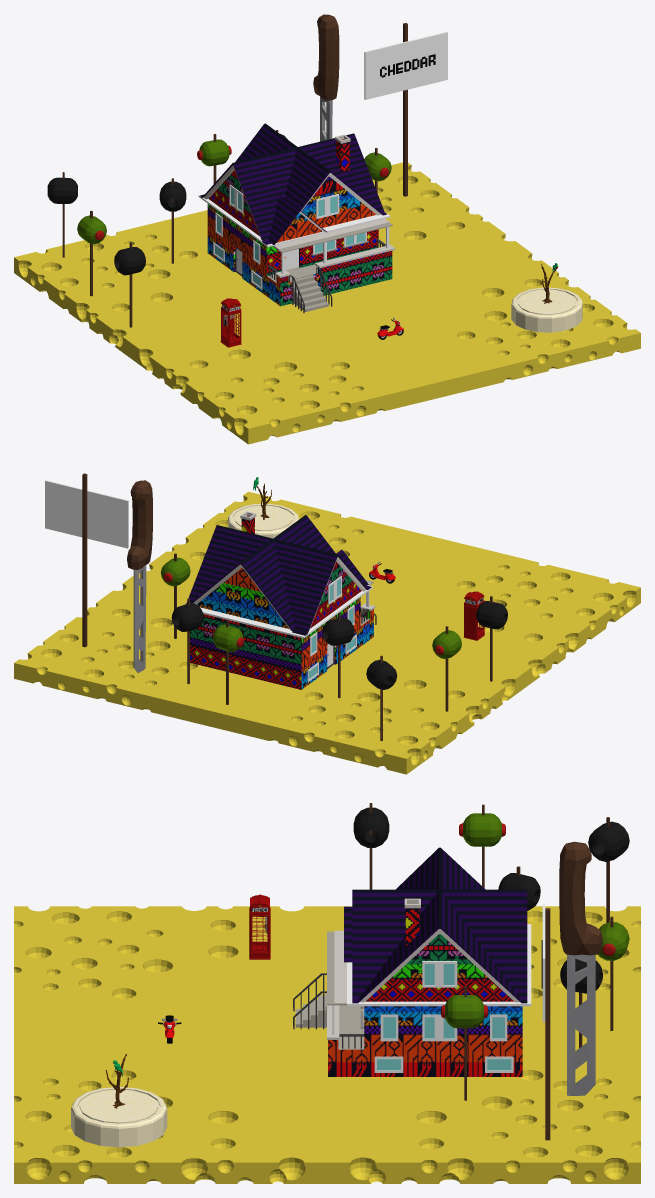
The picture shows the model from 3 angles, top to bottom: view 1: azimuth 30°, elevation 25°; view 2: azimuth 150°, elevation 25°; view 3: azimuth 270°, elevation 25°; orthographic projection. The views are drawn at different scales.
Visible parts, largest first — view 1: Cube.022, Cube.966, Cube.023, Cylinder.016, Cube.024, Sphere.017, OBJRANDOM_PHONEBOOTH, Sphere.016, Sphere.020, Sphere.018, Sphere.022, Sphere.019; view 2: Cube.022, Cube.966, Cube.023, Cube.024, Cylinder.016, Sphere.017, Sphere.020, Sphere.021, Sphere.016, Sphere.018, Sphere.022, OBJRANDOM_PHONEBOOTH (+1 smaller); view 3: Cube.022, Cube.966, Cube.024, Cylinder.016, Cube.023, Sphere.019, Sphere.016, Sphere.018, Sphere.017, OBJRANDOM_PHONEBOOTH, Sphere.022, Sphere.020 (+1 smaller).
Boxes of the visible parts, <box> form: Cube.022: <box>14,162,640,444</box>; Cube.966: <box>198,123,395,313</box>; Cube.023: <box>364,23,447,196</box>; Cylinder.016: <box>511,287,582,332</box>; Cube.024: <box>313,14,339,141</box>; Sphere.017: <box>114,242,145,327</box>; OBJRANDOM_PHONEBOOTH: <box>220,298,241,347</box>; Sphere.016: <box>47,172,77,257</box>; Sphere.020: <box>159,178,186,263</box>; Sphere.018: <box>77,210,106,296</box>; Sphere.022: <box>197,134,231,183</box>; Sphere.019: <box>364,148,391,192</box>; Cube.022: <box>14,491,640,774</box>; Cube.966: <box>185,511,376,689</box>; Cube.023: <box>45,473,128,647</box>; Cube.024: <box>127,480,152,672</box>; Cylinder.016: <box>228,503,298,538</box>; Sphere.017: <box>476,596,507,681</box>; Sphere.020: <box>322,612,354,698</box>; Sphere.021: <box>171,598,203,683</box>; Sphere.016: <box>366,655,397,741</box>; Sphere.018: <box>432,626,461,711</box>; Sphere.022: <box>212,619,244,704</box>; OBJRANDOM_PHONEBOOTH: <box>463,591,484,640</box>; Cube.022: <box>14,906,640,1183</box>; Cube.966: <box>293,847,531,1076</box>; Cube.024: <box>559,841,602,1095</box>; Cylinder.016: <box>71,1087,167,1147</box>; Cube.023: <box>541,904,550,1140</box>; Sphere.019: <box>441,986,487,1100</box>; Sphere.016: <box>588,817,629,922</box>; Sphere.018: <box>459,804,505,887</box>; Sphere.017: <box>353,803,389,889</box>; OBJRANDOM_PHONEBOOTH: <box>249,894,270,959</box>; Sphere.022: <box>598,916,629,1030</box>; Sphere.020: <box>498,866,540,910</box>.
Bounding box in the file's own units: 3917 × 2108 × 4000.
Materials: 47 (7 with a texture image).
